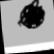correct: (14, 0, 47, 32)
